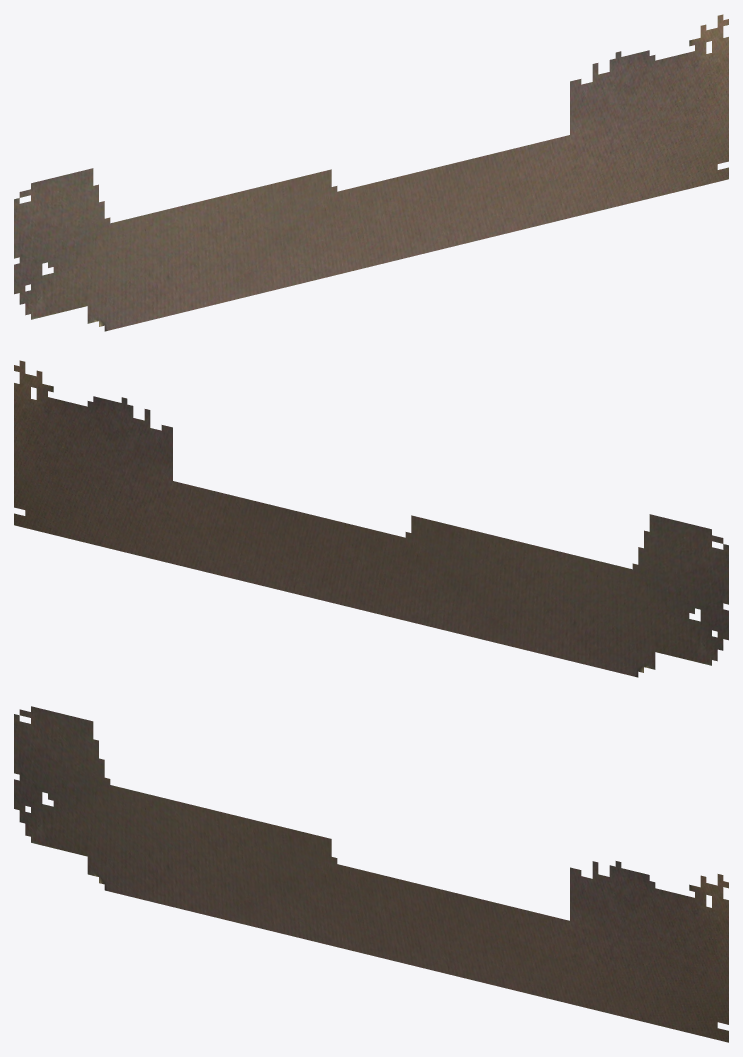
File: region.obj
3 renders of one model, top to bottom at view 1: azimuth 30°, elevation 25°; view 2: azimuth 150°, elevation 25°; view 3: azimuth 330°, elevation 25°, orthographic.
Visible parts, largest first — view 1: owned_material_region; view 2: owned_material_region; view 3: owned_material_region.
Boxes of the visible parts, <box> form: owned_material_region: <box>14,14,728,331</box>; owned_material_region: <box>14,360,728,677</box>; owned_material_region: <box>14,706,728,1042</box>.
Size of the model in its own units: 0.9844 by 0.2187 by 0.
Materials: 1 (1 with a texture image).
